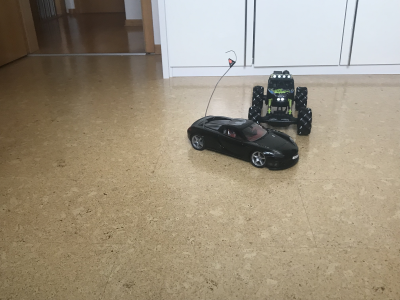remote control car: (245, 67, 314, 136)
